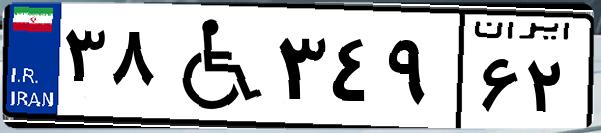2: (525, 38, 570, 115)
3: (270, 28, 330, 110), (57, 26, 110, 100)
4: (330, 28, 385, 110)
6: (475, 38, 525, 113)
8: (110, 28, 158, 98)
9: (385, 28, 445, 110)
ژ (معلولین و جانبازان): (158, 12, 270, 120)
